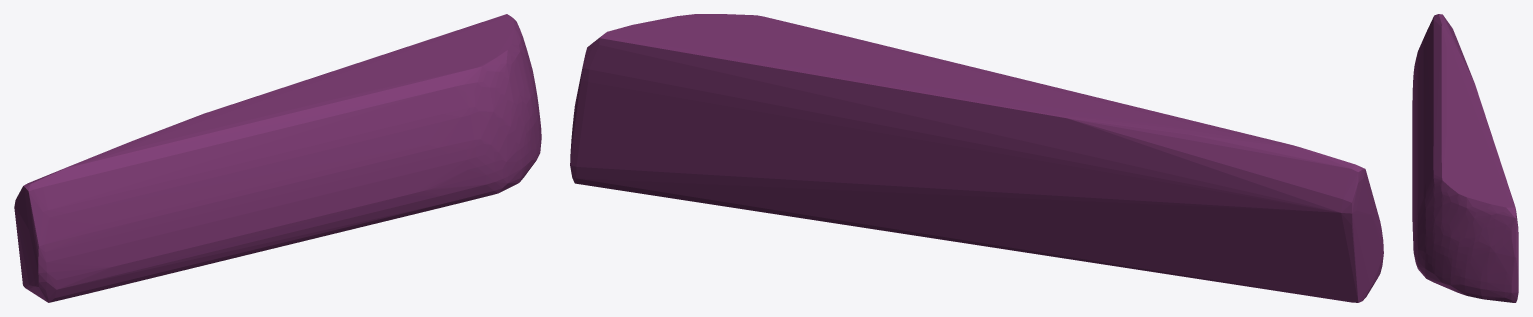
The model's file is left-hip-pitch-0_part_28.obj.
3 renders of one model, left to right at view 1: azimuth 30°, elevation 25°; view 2: azimuth 150°, elevation 25°; view 3: azimuth 270°, elevation 25°, orthographic. The views are drawn at different scales.
Bounding box in the file's own units: 0.1014 × 0.0203 × 0.0219.
